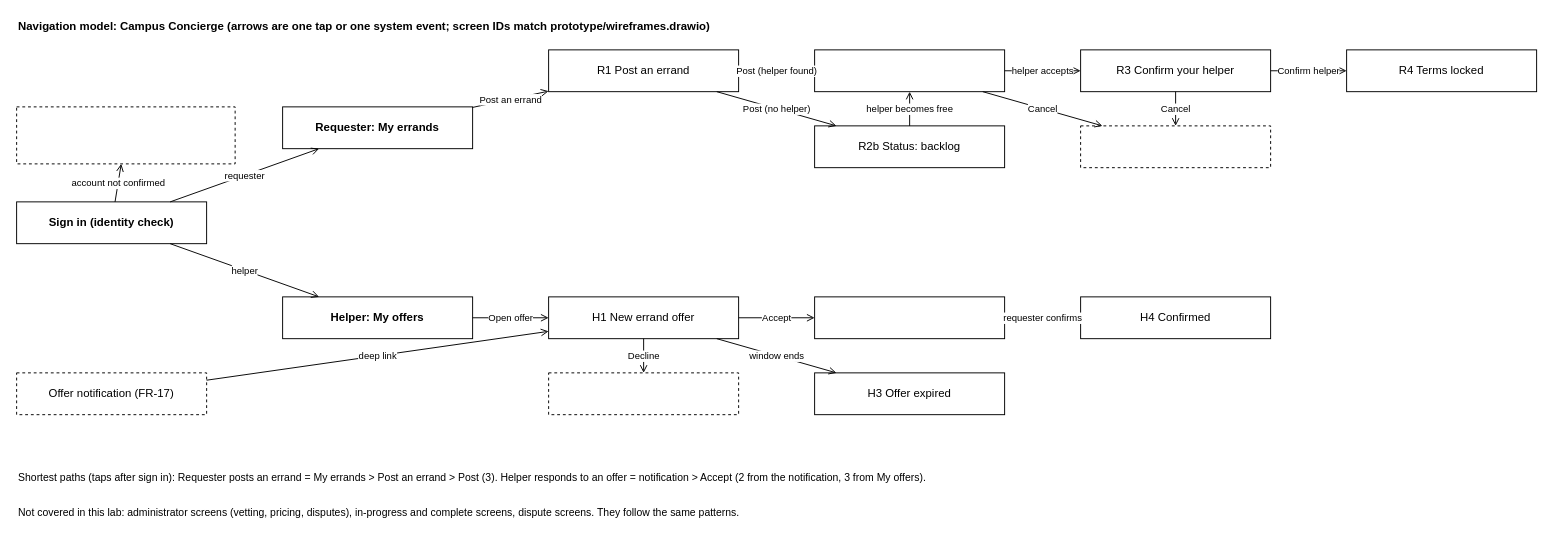
This 1553x540 diagram has some shape labels left out. The shapes that lost their labels are listed below. From the top down, each one's centre as x and y in pixels, then its label:
At [909,70]: "R2 Status: waiting".
At [125,135]: "Account not confirmed: confirm by email link".
At [1175,146]: "Errand cancelled".
At [909,317]: "H2 Accepted: waiting".
At [643,393]: "Declined: back to My offers".
